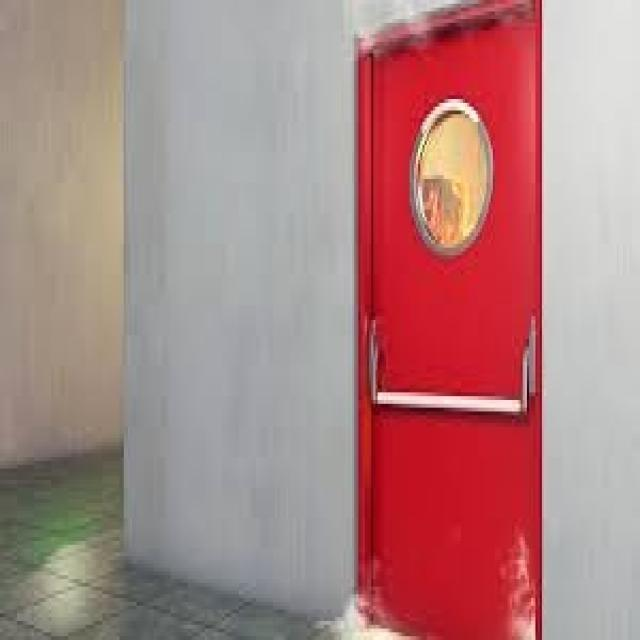door: (356, 2, 544, 638)
